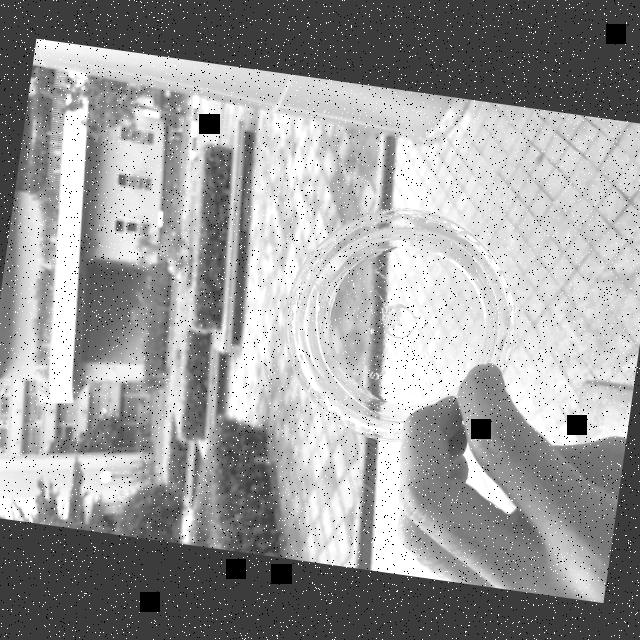plastic_cup_lid: (264, 179, 542, 458)
